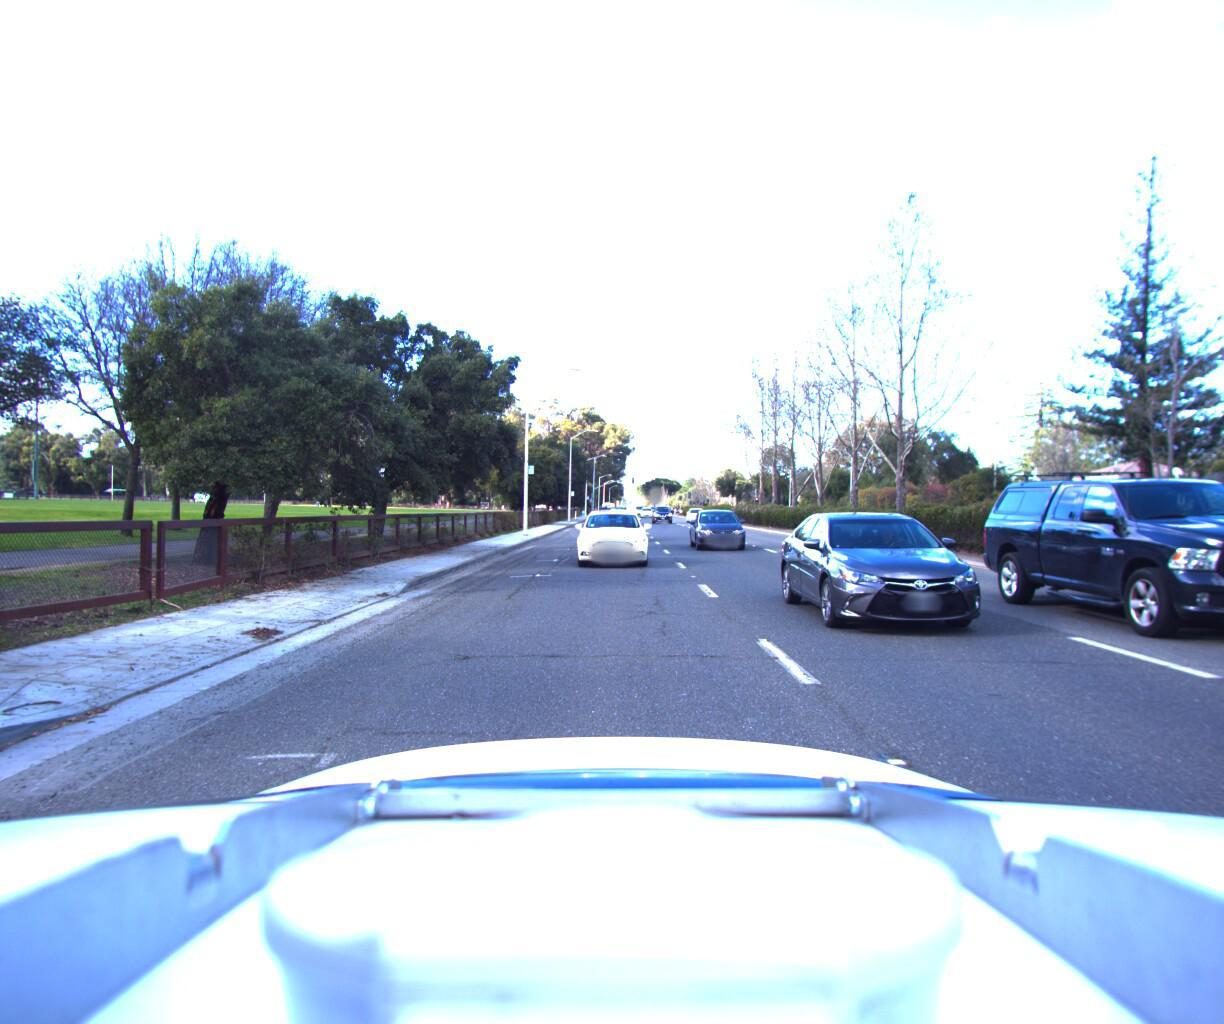car: (1014, 449, 1224, 689), (786, 495, 1065, 659), (571, 501, 659, 565), (689, 504, 761, 551), (651, 503, 673, 521)
